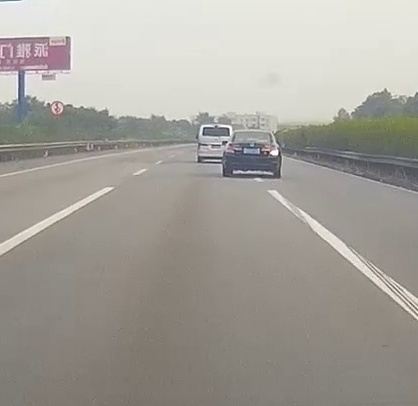L_light: (225, 144, 242, 153)
R_light: (261, 145, 279, 155)
T_light: (249, 131, 256, 133)
day-right: (222, 130, 281, 177)
